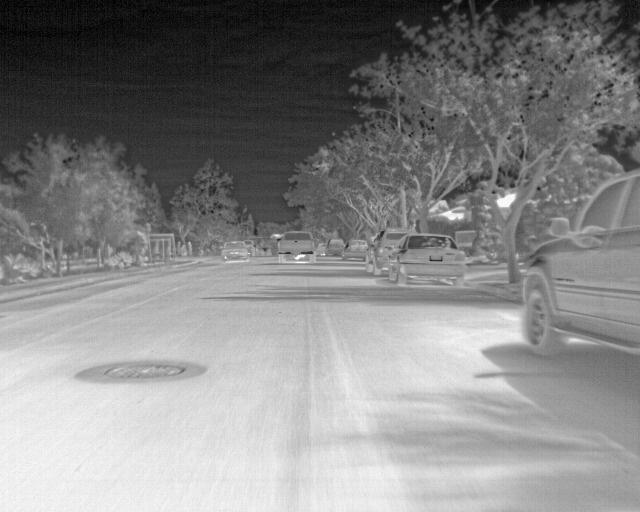car: (520, 168, 639, 357), (389, 235, 465, 289), (365, 226, 415, 273), (274, 230, 319, 263), (221, 240, 250, 261), (338, 239, 368, 259), (323, 238, 345, 257), (315, 240, 329, 255), (249, 244, 264, 257)
